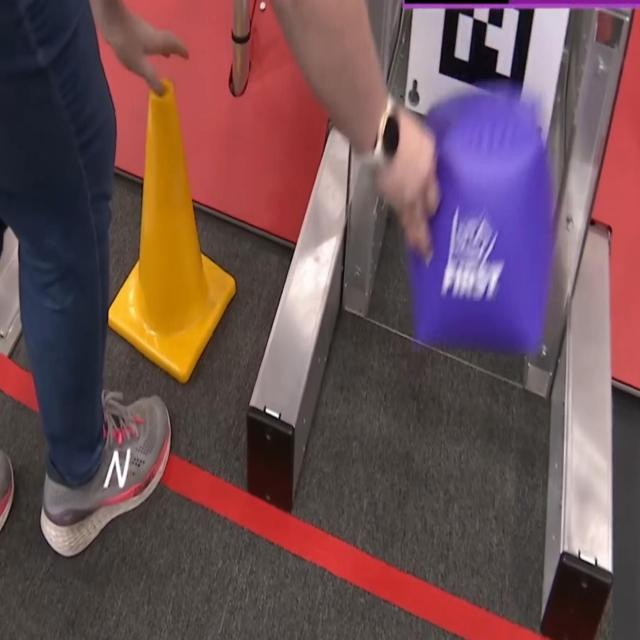frc_cone: (102, 78, 235, 386)
frc_cube: (411, 94, 561, 362)
